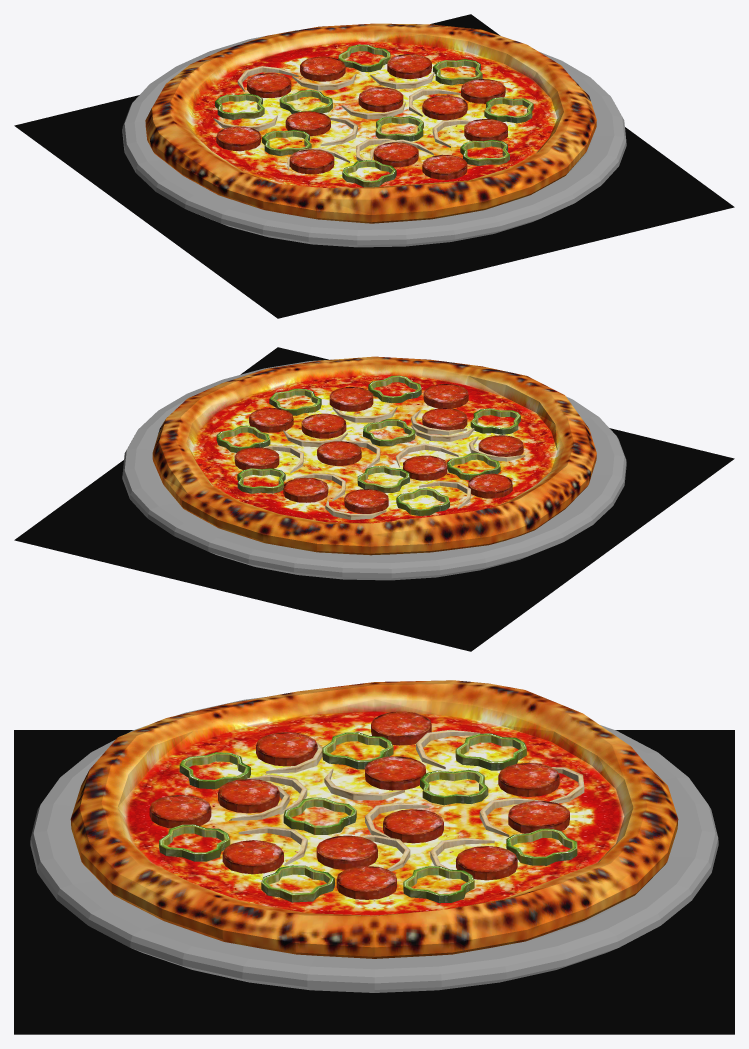
The picture shows the model from 3 angles, top to bottom: view 1: azimuth 30°, elevation 25°; view 2: azimuth 150°, elevation 25°; view 3: azimuth 270°, elevation 25°; orthographic projection. The views are drawn at different scales.
Parts seen in each view (by area): view 1: vsn_mesh_2_msh_Re_102_Mesh_mesh_2_msh_Re_102_Mesh, vsn_mesh_3_kage_mesh_3_kage, vsn_mesh_1_Re_circle_plate_00_Mesh1_mesh_1_Re_circle_plate_00_Me; view 2: vsn_mesh_2_msh_Re_102_Mesh_mesh_2_msh_Re_102_Mesh, vsn_mesh_3_kage_mesh_3_kage, vsn_mesh_1_Re_circle_plate_00_Mesh1_mesh_1_Re_circle_plate_00_Me; view 3: vsn_mesh_2_msh_Re_102_Mesh_mesh_2_msh_Re_102_Mesh, vsn_mesh_3_kage_mesh_3_kage, vsn_mesh_1_Re_circle_plate_00_Mesh1_mesh_1_Re_circle_plate_00_Me.
Part boxes in pixels (x1,y1,x2,y2): vsn_mesh_2_msh_Re_102_Mesh_mesh_2_msh_Re_102_Mesh: (145,23,596,223); vsn_mesh_3_kage_mesh_3_kage: (14,14,734,318); vsn_mesh_1_Re_circle_plate_00_Mesh1_mesh_1_Re_circle_plate_00_Me: (122,30,626,247); vsn_mesh_2_msh_Re_102_Mesh_mesh_2_msh_Re_102_Mesh: (152,356,596,555); vsn_mesh_3_kage_mesh_3_kage: (14,347,734,651); vsn_mesh_1_Re_circle_plate_00_Mesh1_mesh_1_Re_circle_plate_00_Me: (122,359,626,580); vsn_mesh_2_msh_Re_102_Mesh_mesh_2_msh_Re_102_Mesh: (70,680,678,958); vsn_mesh_3_kage_mesh_3_kage: (14,730,734,1034); vsn_mesh_1_Re_circle_plate_00_Mesh1_mesh_1_Re_circle_plate_00_Me: (30,697,718,992).
Bounding box in the file's own units: 0.226 × 0.0337 × 0.226.
Materials: 4 (3 with a texture image).
